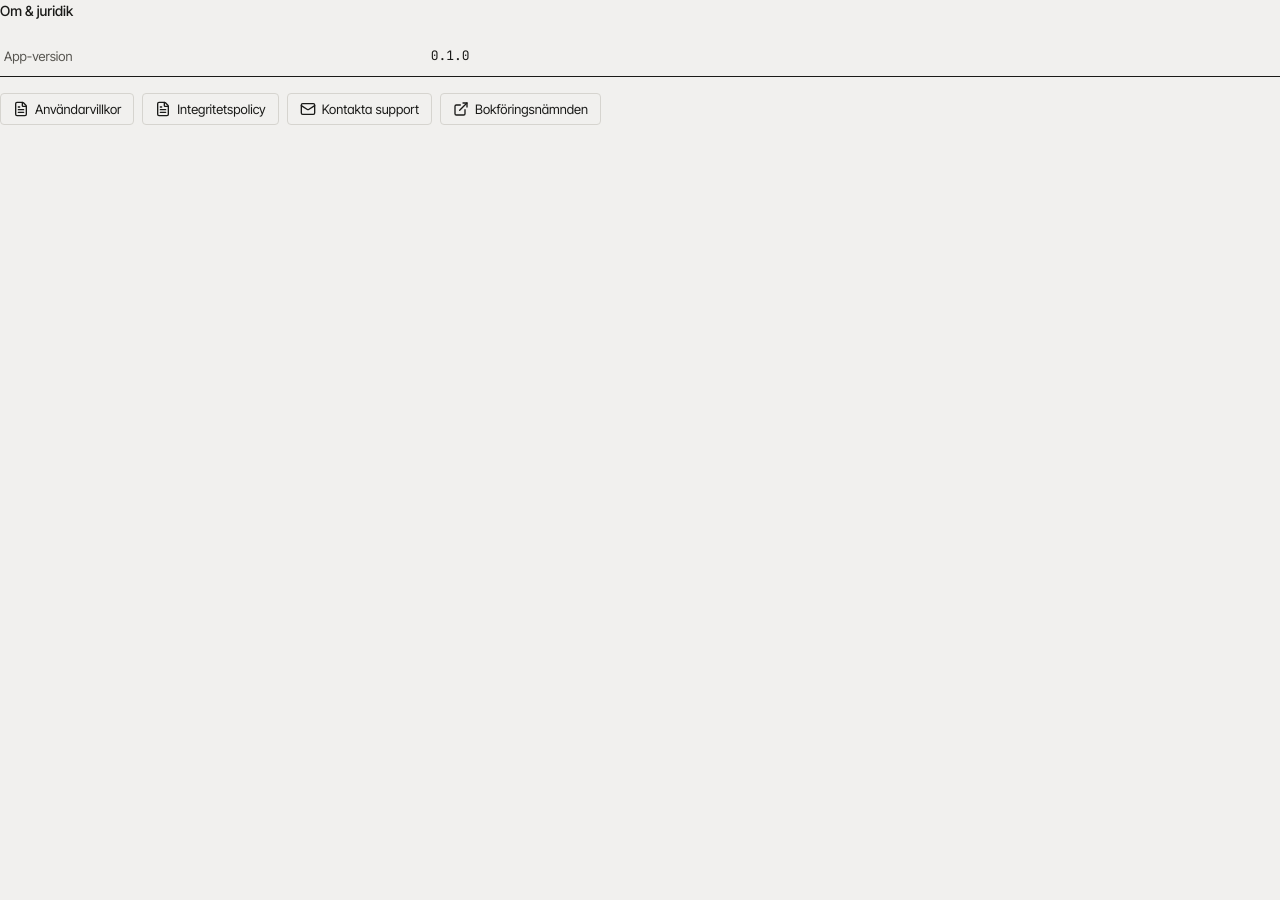
AboutLegalSection › öppnar Privacy-dialog vid klick
This screenshot has width=1280, height=900.
Click the button with test id "open-privacy" at (210, 109), box [142, 93, 279, 125]
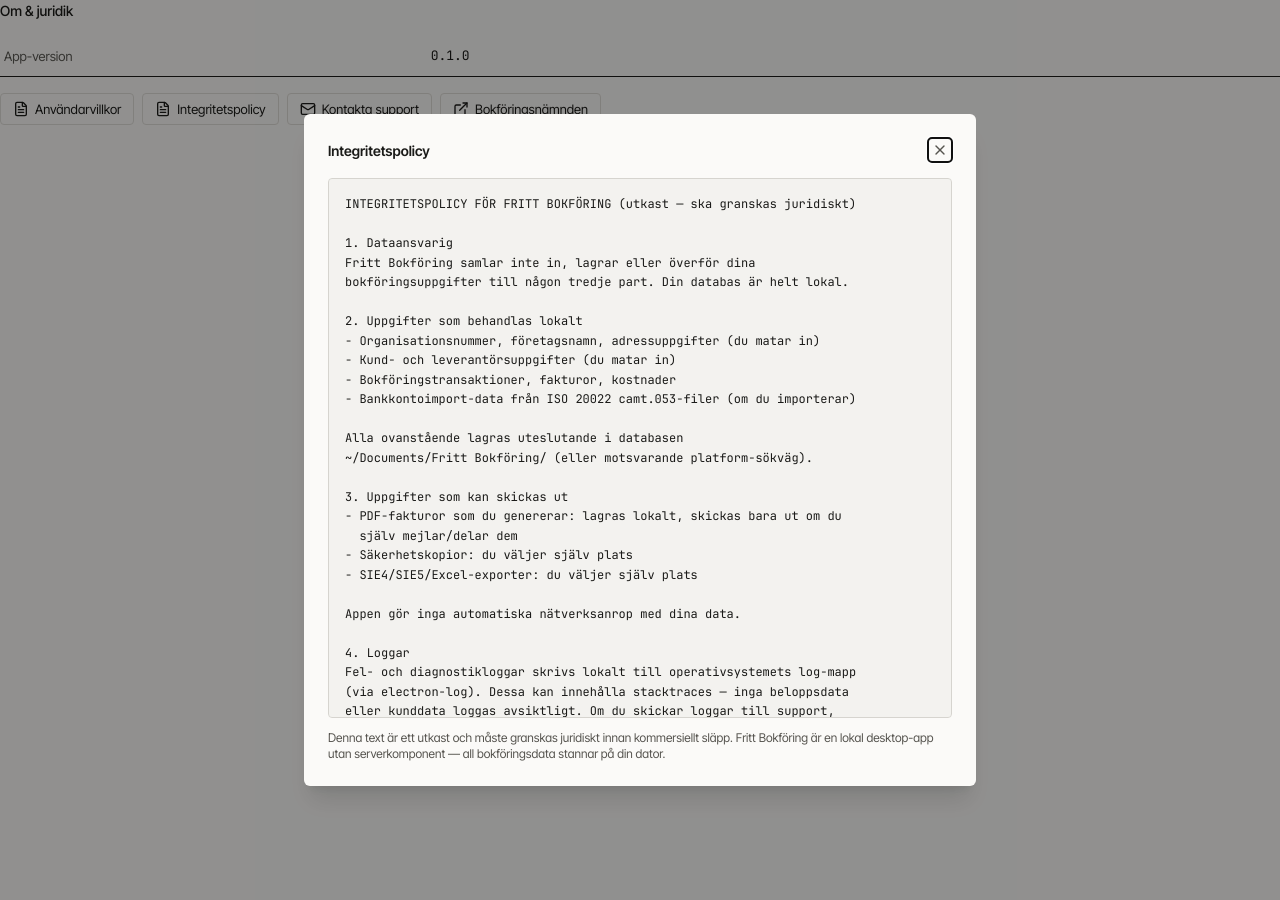
expect the dialog "Integritetspolicy" is shown: met, box [304, 114, 976, 786]
expect the text "GDPR" is shown: met, box [345, 196, 856, 894]
